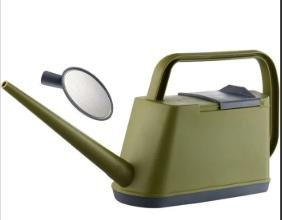ARROSOIR: (2, 0, 281, 220)
